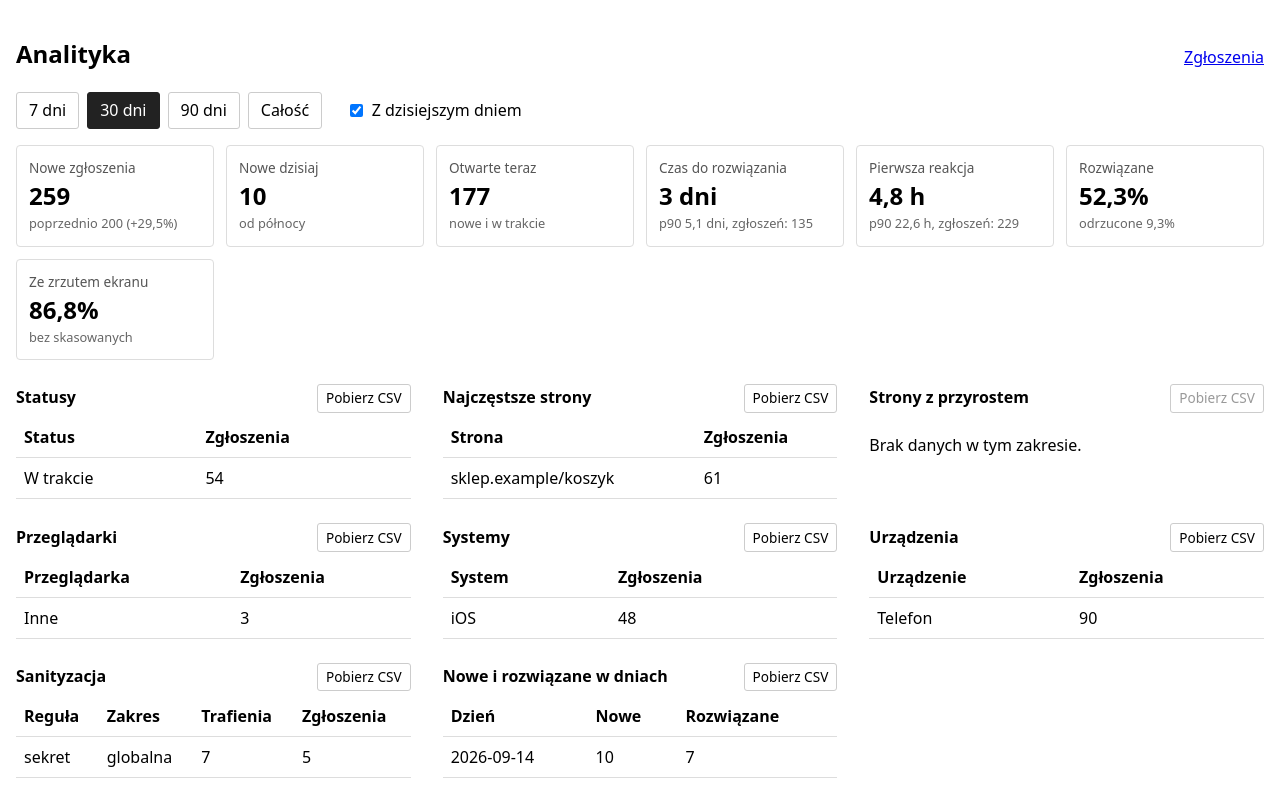
Test: ProjectAnalyticsPage › zmiana zakresu pyta o nowy zakres i do odpowiedzi zostawia poprzednie dane
The width and height of the screenshot is (1280, 800).
Expected: the text "259" is shown, 29,179 -> 70,212
Click the button "7 dni" at (48, 110), box 16,92 -> 79,129
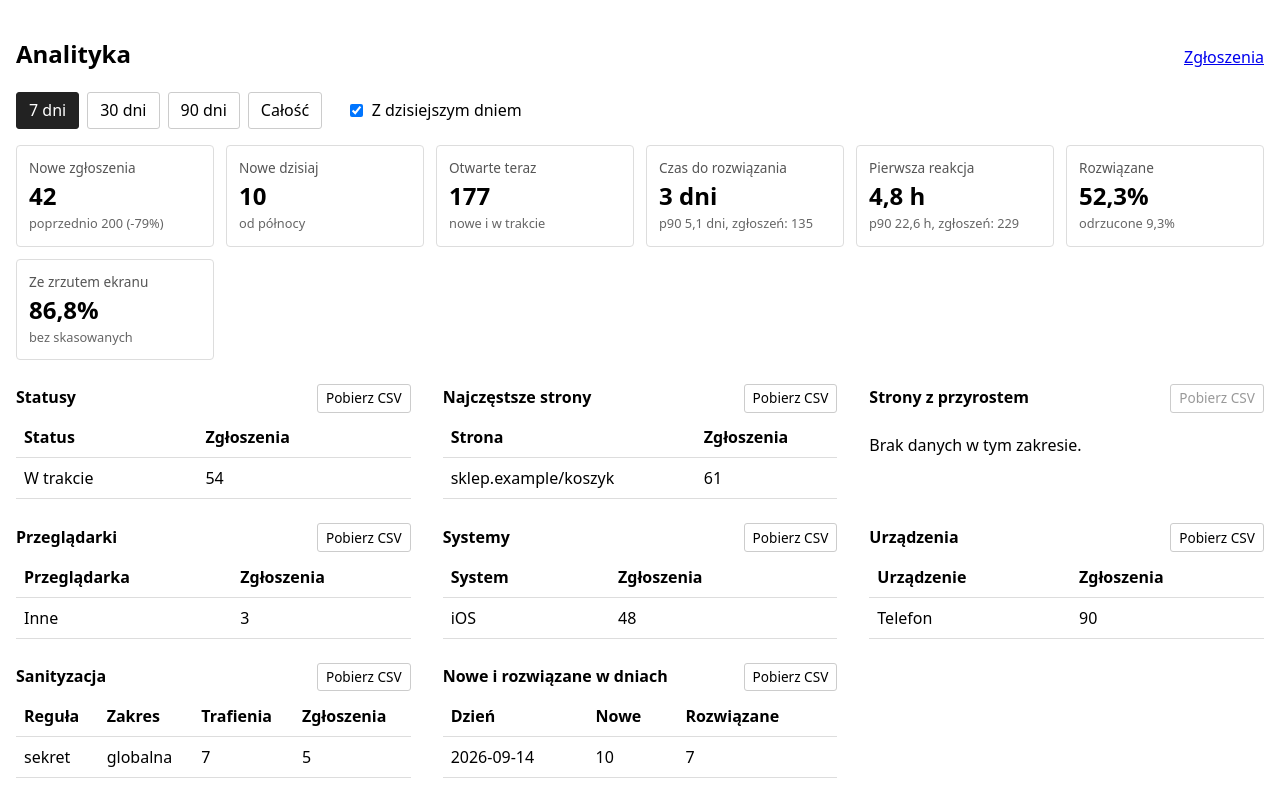
Result: the text "42" is shown at 29,179 -> 56,212
Result: the text "259" is gone
